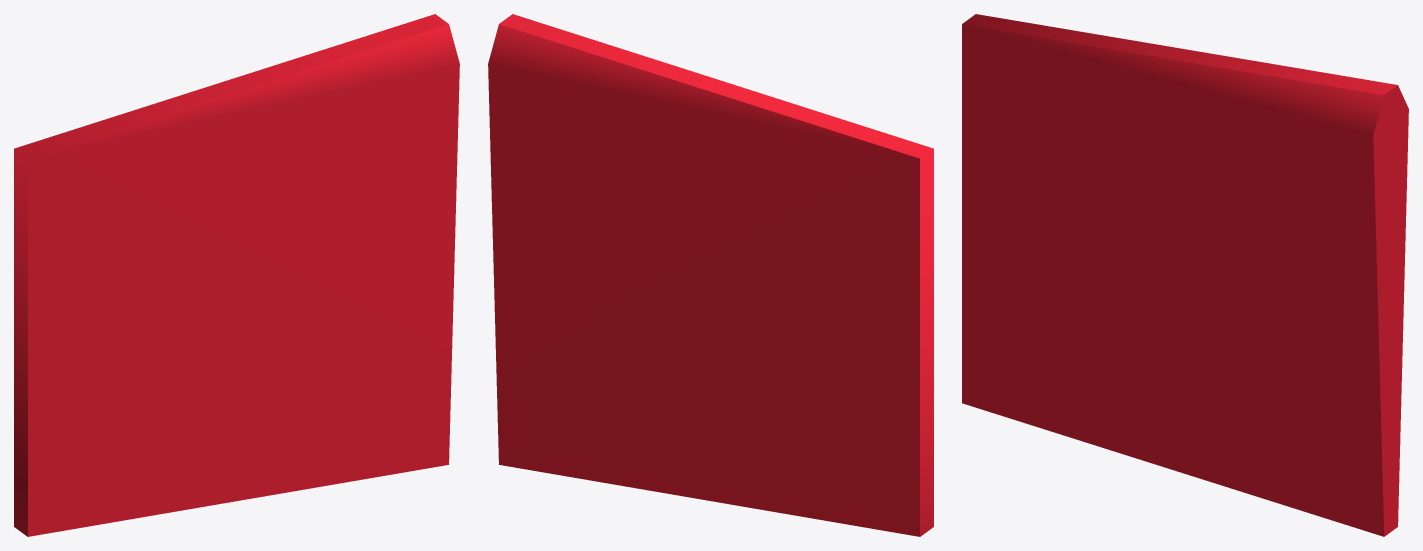
File: SM_Immigration_Turnstile_03.fbx
The picture shows the model from 3 angles, left to right: view 1: azimuth 30°, elevation 25°; view 2: azimuth 150°, elevation 25°; view 3: azimuth 330°, elevation 25°; orthographic projection.
Visible parts, largest first — view 1: pasted__pasted__pCube3; view 2: pasted__pasted__pCube3; view 3: pasted__pasted__pCube3.
Part boxes in pixels (x1=…): pasted__pasted__pCube3: x1=14, y1=14, x2=459, y2=536; pasted__pasted__pCube3: x1=488, y1=14, x2=933, y2=536; pasted__pasted__pCube3: x1=962, y1=14, x2=1408, y2=536.
Bounding box in the file's own units: 1 × 1 × 0.1461.
